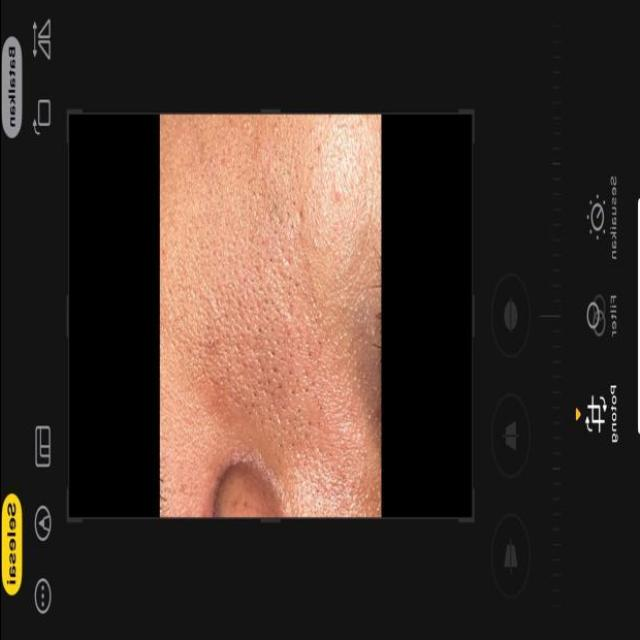blackhead: (231, 273, 341, 477)
